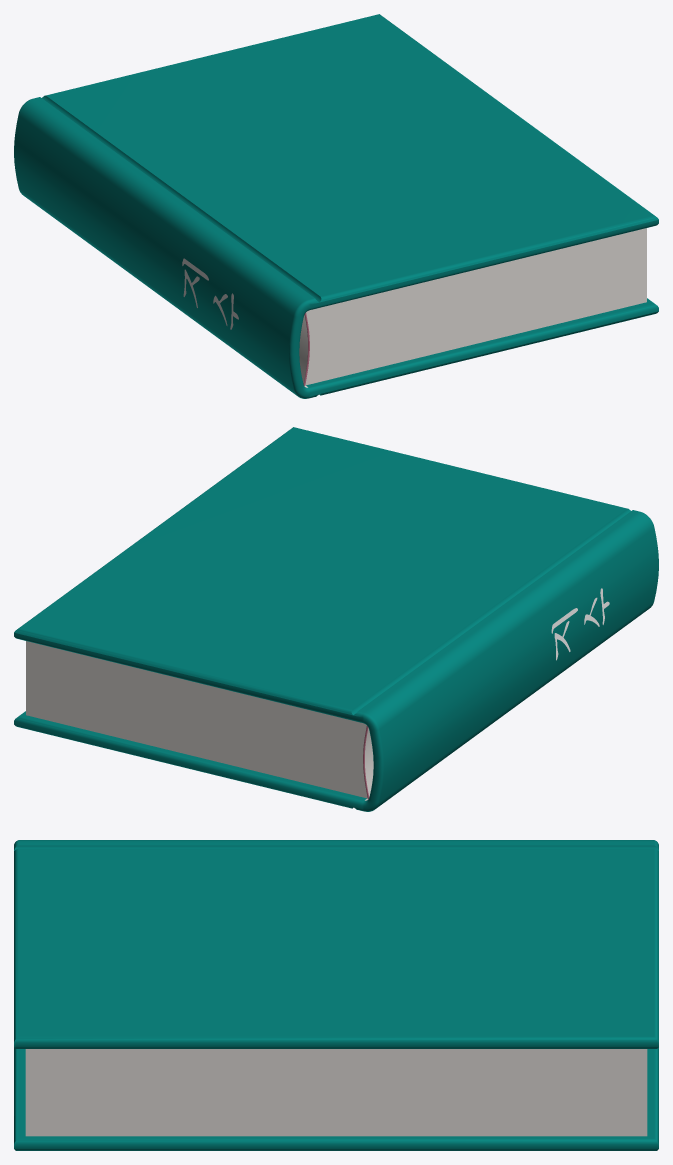
Rendered from book8.glb.
3 views of the same model, one above another, from view 1: azimuth 30°, elevation 25°; view 2: azimuth 150°, elevation 25°; view 3: azimuth 270°, elevation 25° (orthographic). The views are drawn at different scales.
Visible parts, largest first — view 1: Geode, Text; view 2: Geode, Text; view 3: Geode.
Part boxes in pixels (bbox=[...]): Geode: bbox=[14, 14, 658, 398]; Text: bbox=[182, 258, 238, 329]; Geode: bbox=[14, 427, 658, 811]; Text: bbox=[551, 588, 609, 660]; Geode: bbox=[14, 840, 658, 1150].
Size of the model in its own units: 0.5053 by 0.1292 by 0.6604.
Materials: 3 (1 with a texture image).
